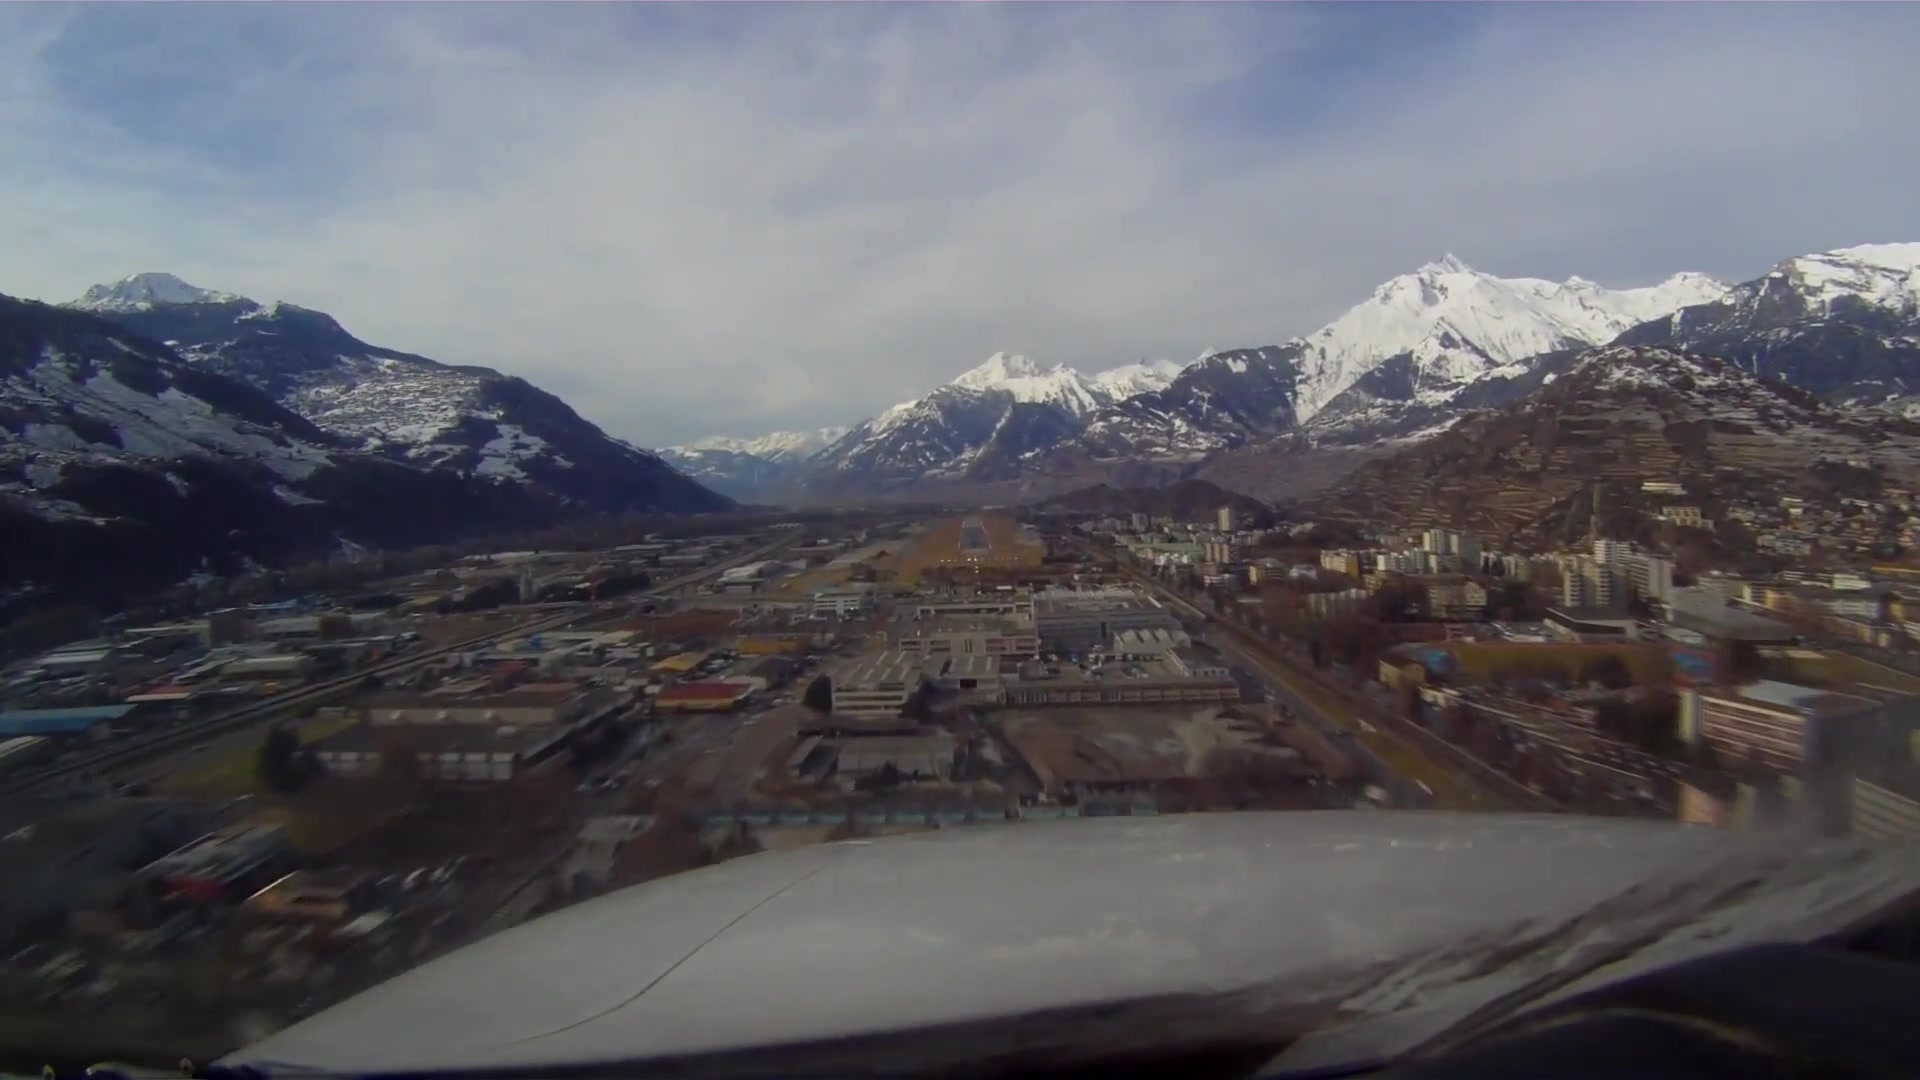runway: (956, 516, 993, 556)
